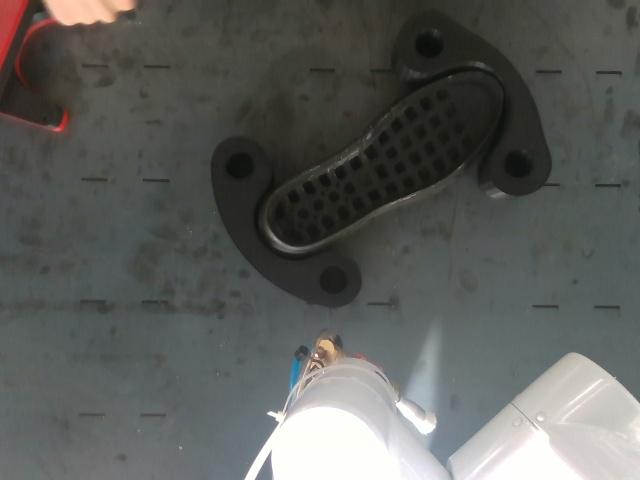shoes: (266, 71, 503, 247)
